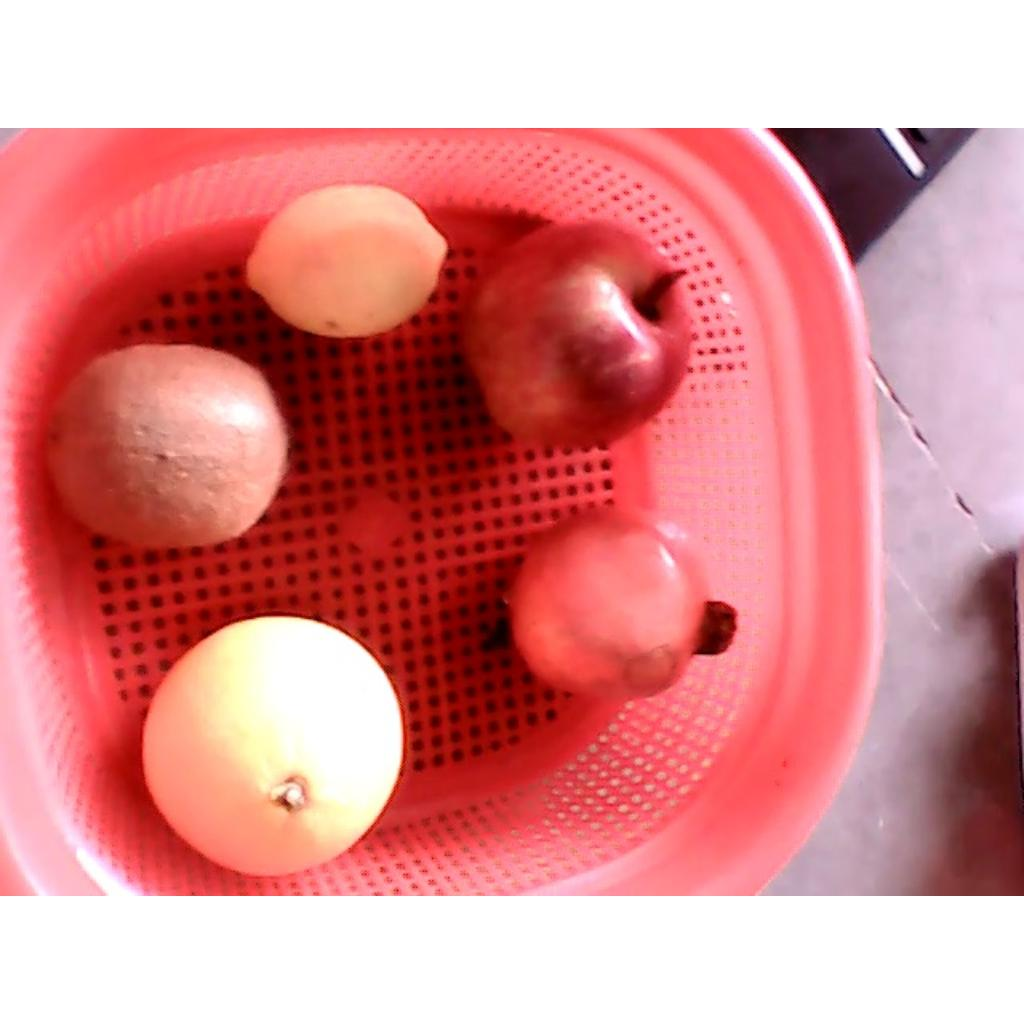apple: (459, 216, 694, 449)
kiwi: (40, 342, 290, 546)
lemon: (245, 185, 449, 338)
orange: (141, 616, 404, 878)
pomegranate: (504, 505, 740, 704)
